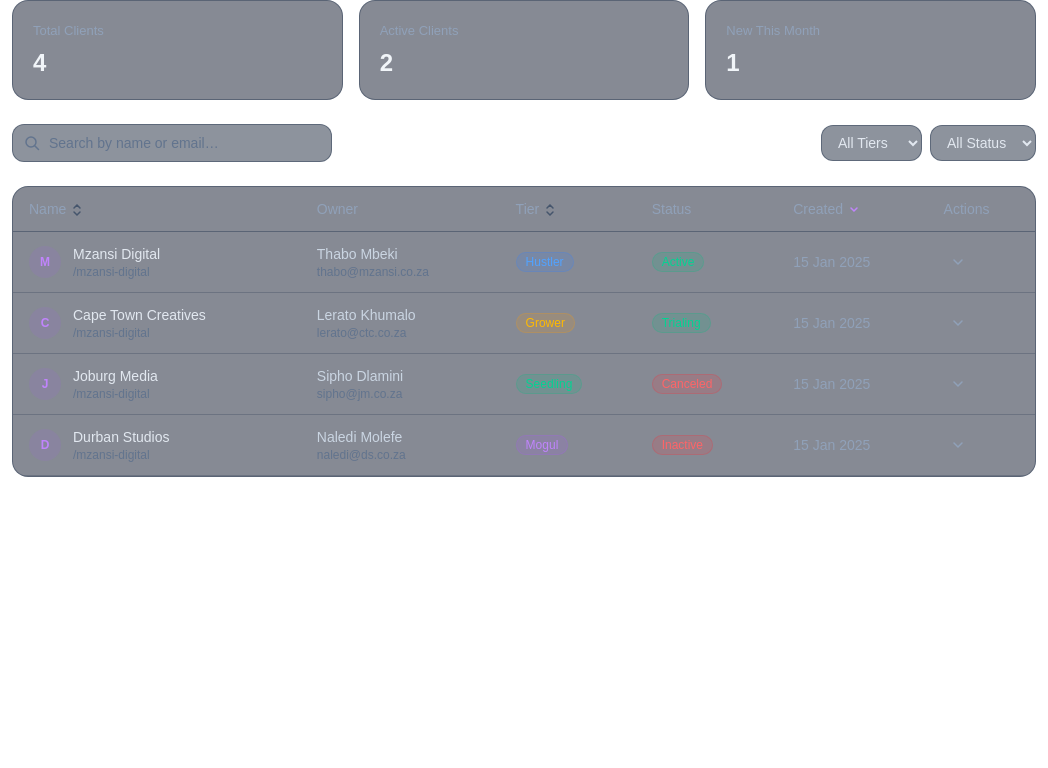
Test: ClientsTable › collapses expanded row when clicked again
This screenshot has width=1048, height=768.
Click the row with test id "client-row-org-1" at (524,262), box left=13, top=231, right=1035, bottom=292
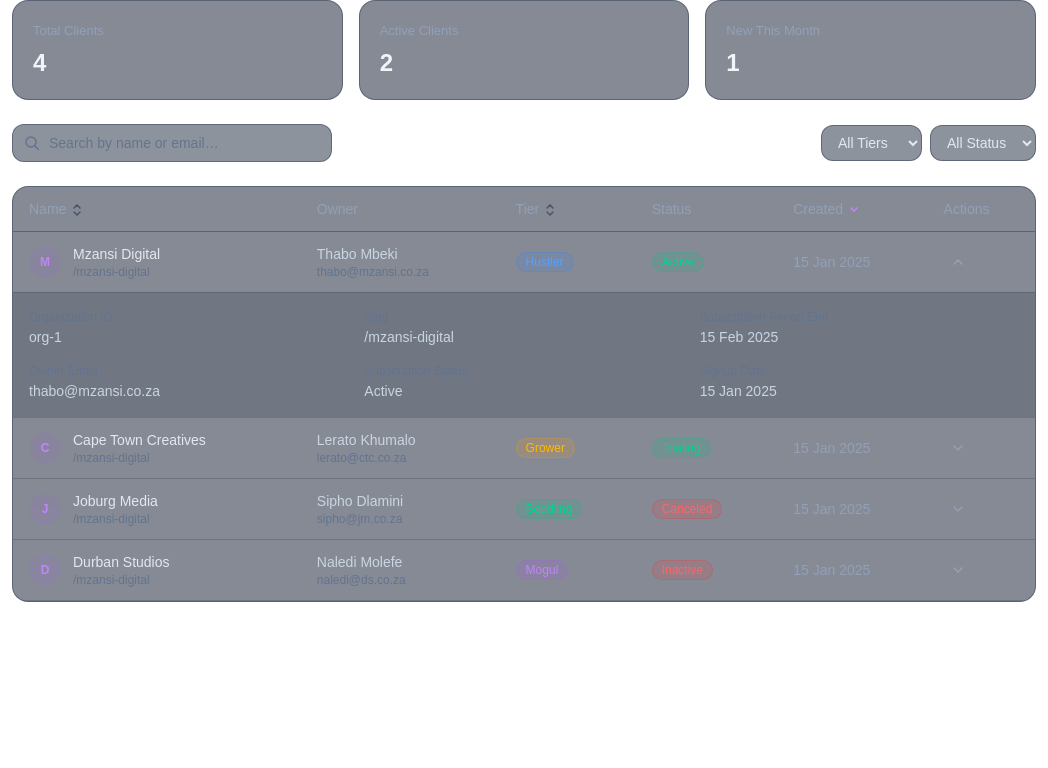
Result: the row with test id "client-details-org-1" is shown at left=13, top=292, right=1035, bottom=417
Click the row with test id "client-row-org-1" at (524,262), box left=13, top=231, right=1035, bottom=292
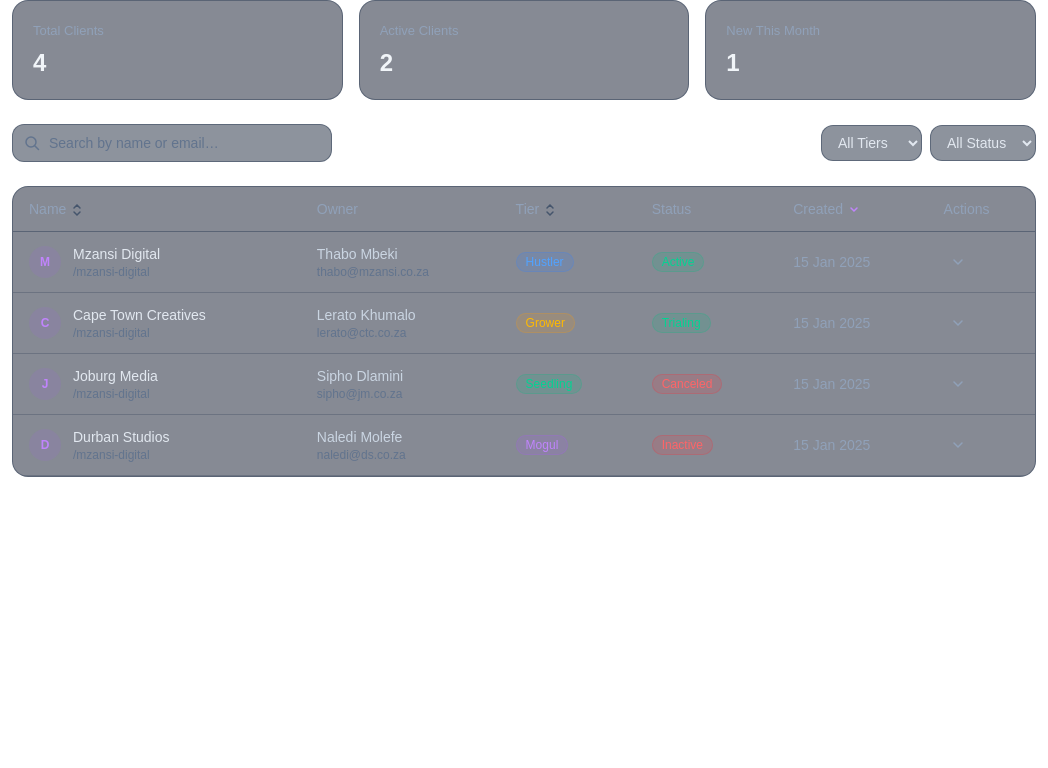
Result: the row with test id "client-details-org-1" is gone
